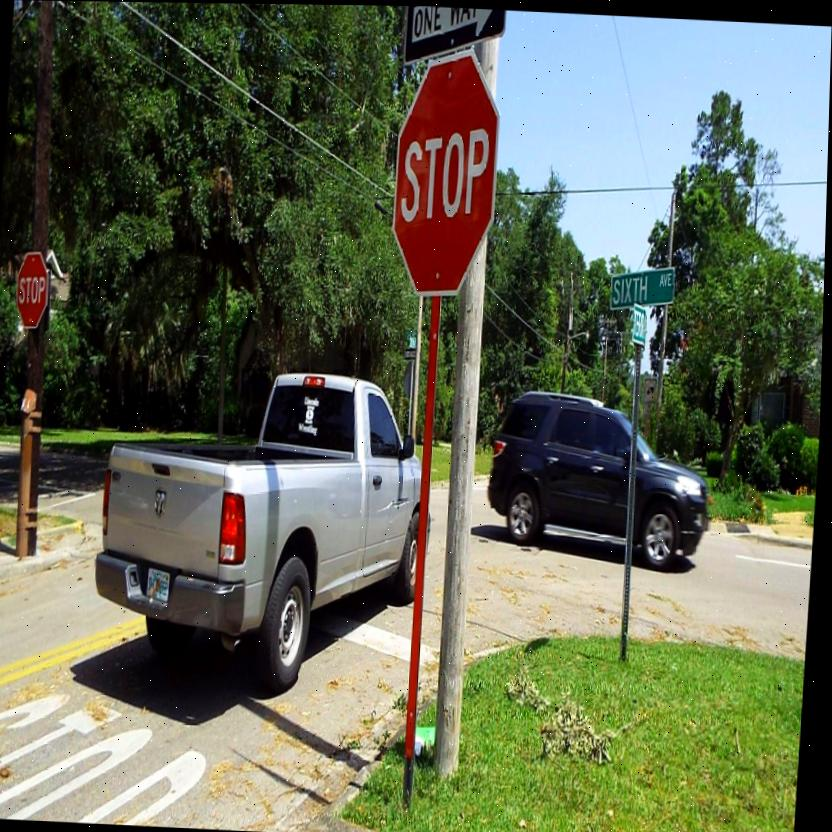Pole: (406, 293, 444, 785), (620, 351, 647, 660)
Sign: (390, 48, 504, 290), (16, 251, 52, 330)
